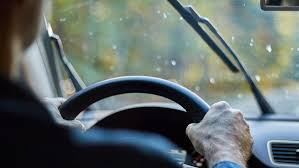Driving: (17, 58, 265, 156)
